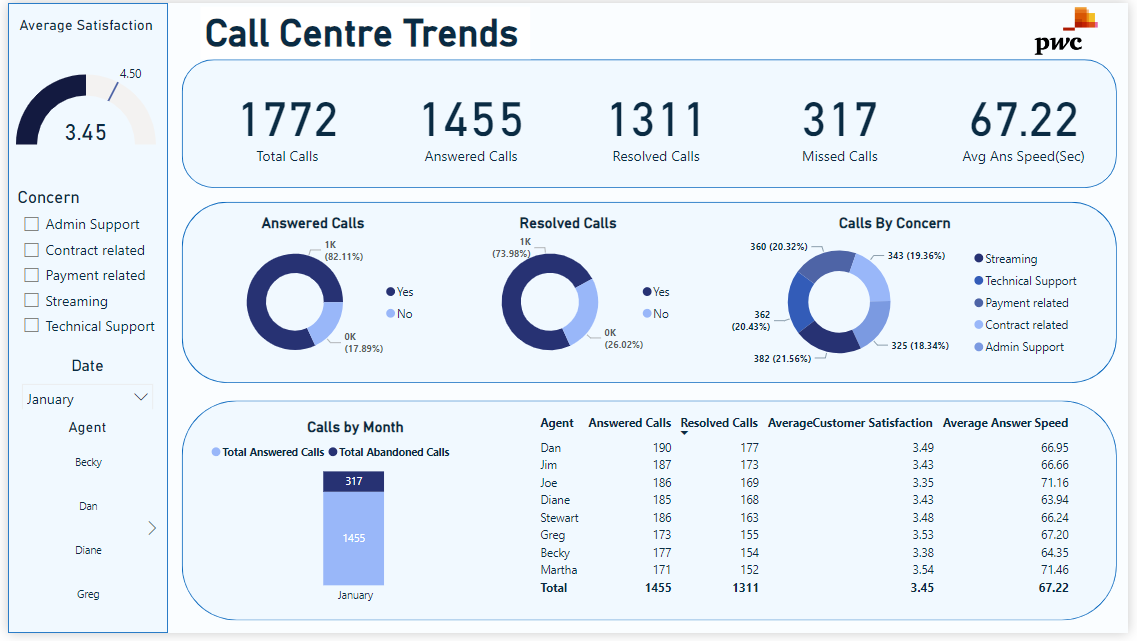

What the dashboard file says about the page in this screenshot:
{"tool":"powerbi","page":{"name":"Call Center Trend Analysis","canvas":[1280,720],"ordinal":1},"visuals":[{"type":"shape","box":[198.6,454.3,1068.6,251.4],"z":0},{"type":"shape","box":[198.6,64.3,1068.6,147.1],"z":1000},{"type":"shape","box":[198.6,227.1,1068.6,207.1],"z":2000},{"type":"shape","box":[0,0,182.9,720],"z":3000},{"type":"textbox","box":[220,4.3,377.1,60],"z":4000},{"type":"image","box":[1161.4,0,95.7,64.3],"z":5000},{"type":"gauge","title":"Average Satisfaction","fields":{"Y":["KPI.Overall Customer Satisfaction"],"TargetValue":["KPI.Target Value"]},"box":[4.3,14.3,170,184.3],"z":6000},{"type":"card","fields":{"Values":["KPI.Total Calls"]},"box":[241.4,75.7,155.7,121.4],"z":7000},{"type":"card","fields":{"Values":["KPI.Total Answered Calls"]},"box":[451.8,75.7,155.7,121.4],"z":8000},{"type":"card","fields":{"Values":["KPI.Total Resolved Calls"]},"box":[662.1,75.7,155.7,121.4],"z":9000},{"type":"card","fields":{"Values":["KPI.Total Abandoned Calls"]},"box":[872.5,75.7,155.7,121.4],"z":10000},{"type":"card","fields":{"Values":["KPI.Average Answer Speed"]},"box":[1082.9,75.7,155.7,121.4],"z":11000},{"type":"tableEx","fields":{"Values":["Call-Center-Dataset.Agent","KPI.Total Answered Calls","KPI.Total Resolved Calls","KPI.Overall Customer Satisfaction","KPI.Average Answer Speed"]},"box":[597.1,464.3,638.6,231.4],"z":12000},{"type":"donutChart","title":"Answered Calls","fields":{"Y":["KPI.Total Answered Calls","KPI.Total Abandoned Calls"]},"box":[220,241.4,257.1,181.4],"z":13000},{"type":"donutChart","title":"Resolved Calls","fields":{"Y":["KPI.Total Resolved Calls","KPI.Total Unresolved Calls"]},"box":[510,241.4,260,181.4],"z":14000},{"type":"hundredPercentStackedColumnChart","title":"Calls by Month","fields":{"Y":["KPI.Total Answered Calls","KPI.Total Abandoned Calls"],"Category":["Call-Center-Dataset.Date.Variation.Date Hierarchy.Month"]},"box":[227.1,474.3,340,221.4],"z":15000},{"type":"donutChart","title":"Calls By Concern","fields":{"Y":["KPI.Total Calls"],"Category":["Call-Center-Dataset.Topic"]},"box":[791.4,241.4,444.3,181.4],"z":16000},{"type":"slicer","title":"Concern","fields":{"Values":["Call-Center-Dataset.Topic"]},"box":[5.7,211.4,170,182.9],"z":17000},{"type":"slicer","title":"Date","fields":{"Values":["Call-Center-Dataset.Date.Variation.Date Hierarchy.Month","Call-Center-Dataset.Date.Variation.Date Hierarchy.Day"]},"box":[5.7,404.3,170,60],"z":18000},{"type":"slicer","title":"Agent","fields":{"Values":["Call-Center-Dataset.Agent"]},"box":[5.7,474.3,170,231.4],"z":19000}]}

Visuals, with their boxes in screenshot pixels (x1, y1, x2, y2), scaled from the page's 1280x720 canvas onto the 1137x641 screenshot:
shape: Rect(176, 404, 1126, 628)
shape: Rect(176, 57, 1126, 188)
shape: Rect(176, 202, 1126, 387)
shape: Rect(0, 0, 162, 640)
textbox: Rect(195, 4, 530, 57)
image: Rect(1032, 0, 1117, 57)
"Average Satisfaction" gauge: Rect(4, 13, 155, 177)
card - KPI.Total Calls: Rect(214, 67, 353, 175)
card - KPI.Total Answered Calls: Rect(401, 67, 540, 175)
card - KPI.Total Resolved Calls: Rect(588, 67, 726, 175)
card - KPI.Total Abandoned Calls: Rect(775, 67, 913, 175)
card - KPI.Average Answer Speed: Rect(962, 67, 1100, 175)
tableEx - Call-Center-Dataset.Agent x KPI.Total Answered Calls: Rect(530, 413, 1098, 619)
"Answered Calls" donutChart: Rect(195, 215, 424, 376)
"Resolved Calls" donutChart: Rect(453, 215, 684, 376)
"Calls by Month" hundredPercentStackedColumnChart: Rect(202, 422, 504, 619)
"Calls By Concern" donutChart: Rect(703, 215, 1098, 376)
"Concern" slicer: Rect(5, 188, 156, 351)
"Date" slicer: Rect(5, 360, 156, 413)
"Agent" slicer: Rect(5, 422, 156, 628)
